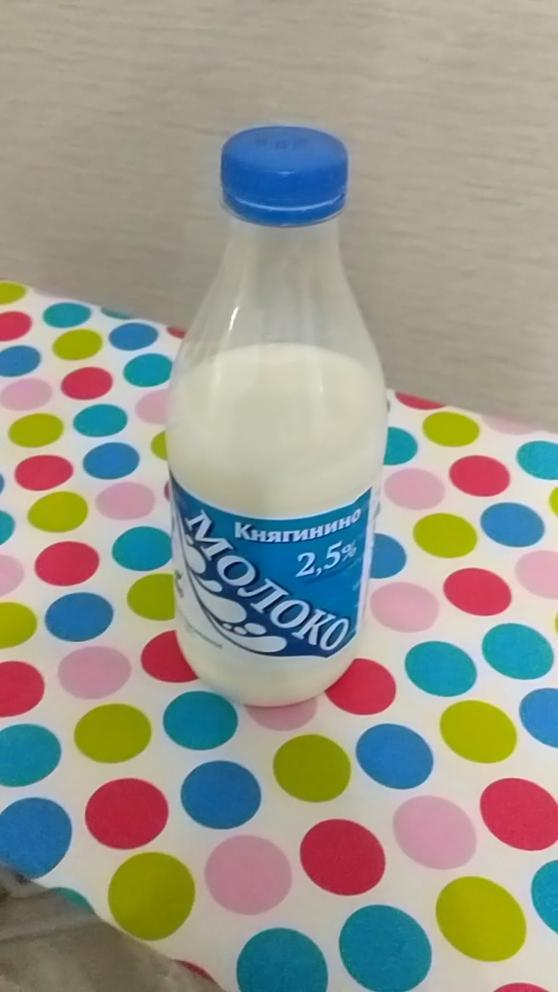milk: (146, 112, 408, 722)
